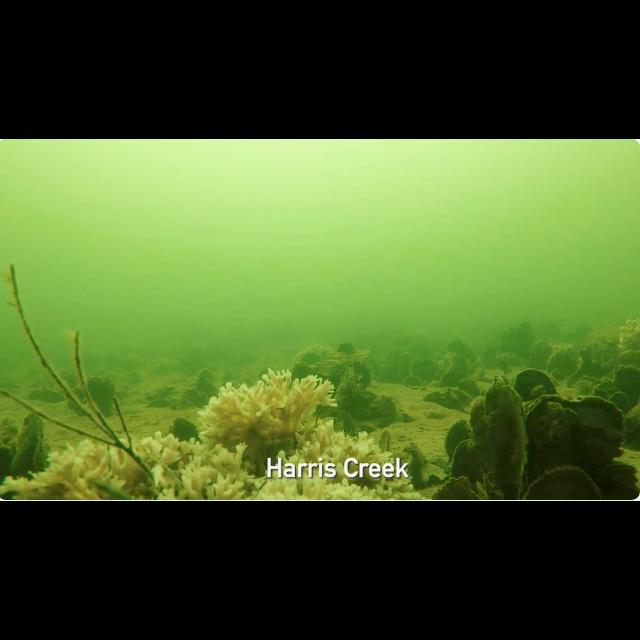Oyster-Closed: (525, 395, 622, 483), (484, 383, 528, 500), (524, 466, 600, 500), (11, 414, 50, 477), (450, 440, 486, 484), (511, 369, 556, 402), (338, 369, 375, 406), (485, 380, 522, 412), (432, 478, 480, 501), (546, 346, 580, 378), (88, 378, 115, 418), (445, 420, 471, 460), (0, 419, 19, 472), (614, 365, 640, 400), (335, 369, 356, 412), (435, 389, 472, 412), (312, 355, 346, 376), (169, 419, 200, 442), (529, 340, 552, 371), (446, 340, 474, 362), (146, 388, 176, 408), (334, 412, 356, 438), (370, 396, 396, 418), (412, 359, 438, 380), (181, 389, 209, 408), (439, 369, 468, 387), (29, 390, 65, 404), (609, 392, 631, 414), (616, 350, 640, 370), (291, 363, 316, 381), (195, 379, 218, 398), (146, 386, 175, 401), (458, 379, 480, 398), (624, 402, 640, 428), (171, 394, 192, 411), (404, 375, 426, 391), (595, 378, 616, 394), (576, 380, 594, 396), (529, 385, 548, 400), (349, 352, 371, 363), (195, 392, 209, 408), (198, 369, 214, 383), (422, 392, 441, 403), (126, 372, 142, 385), (591, 389, 609, 400), (550, 369, 564, 382), (329, 353, 350, 360), (428, 382, 439, 389)
Oyster-Open: (404, 443, 426, 490), (379, 432, 390, 452)
